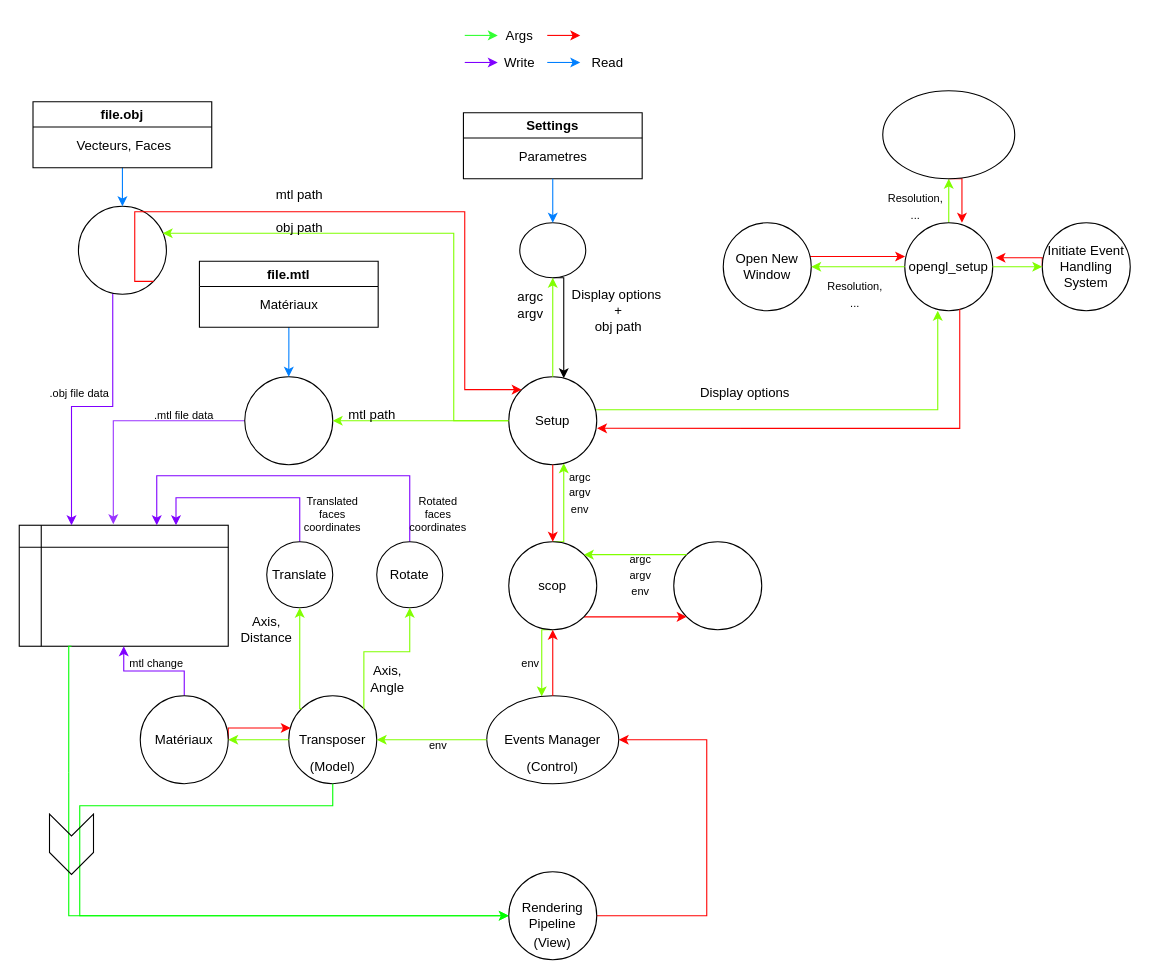
Image size: 1150x979. Some labels were removed from this diagram. Here are the shapes that lost their labels. From the top down, the centre of each, then its label:
the point at 948,134: Create image buffer
the point at 121,249: .obj parser
the point at 552,250: Settings loading
the point at 288,420: .mtl parser
the point at 123,585: Mesh Data Structures
the point at 717,585: main()
